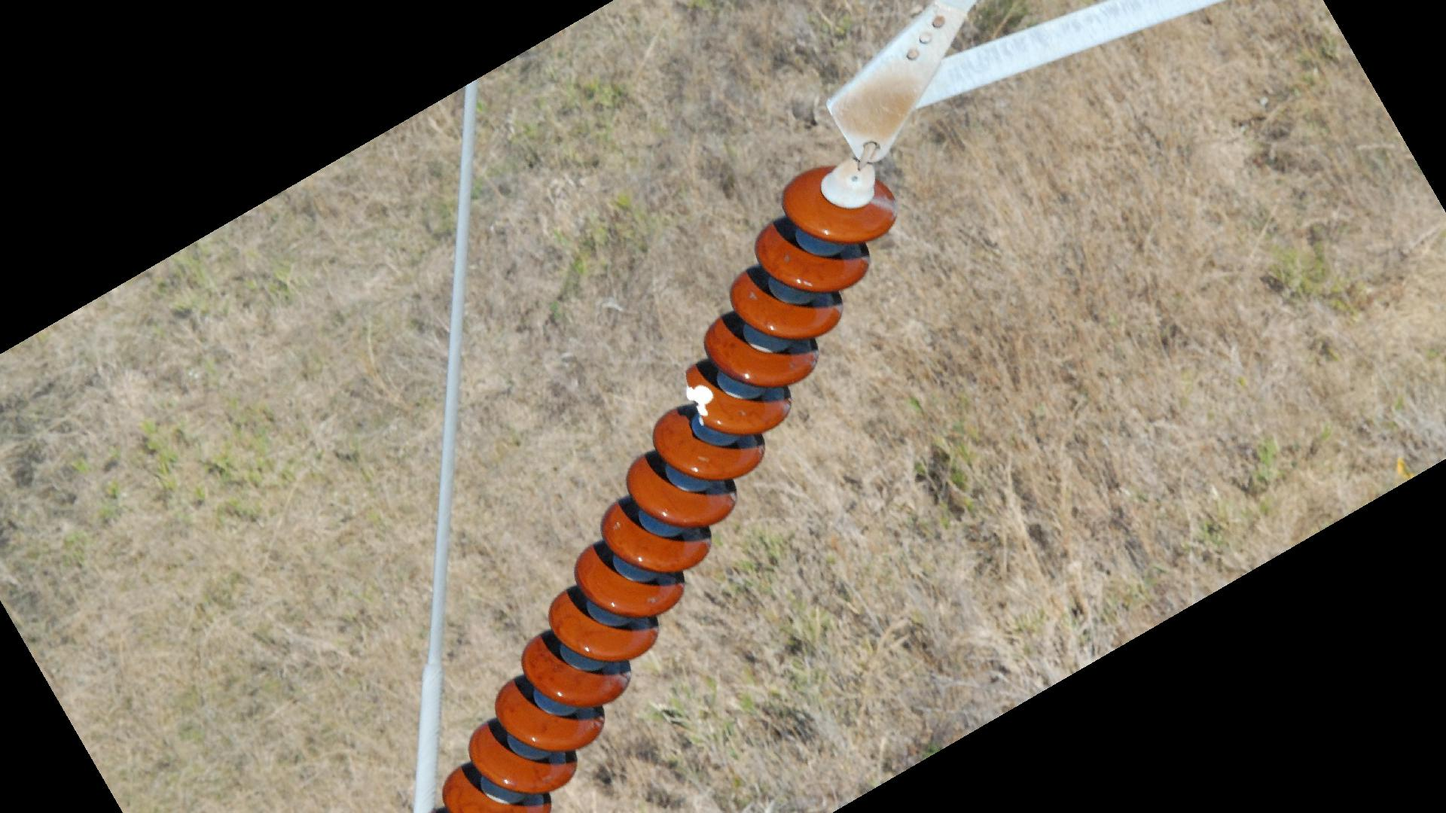insulator: (435, 161, 901, 813)
insulator_breakage: (681, 366, 716, 431)
